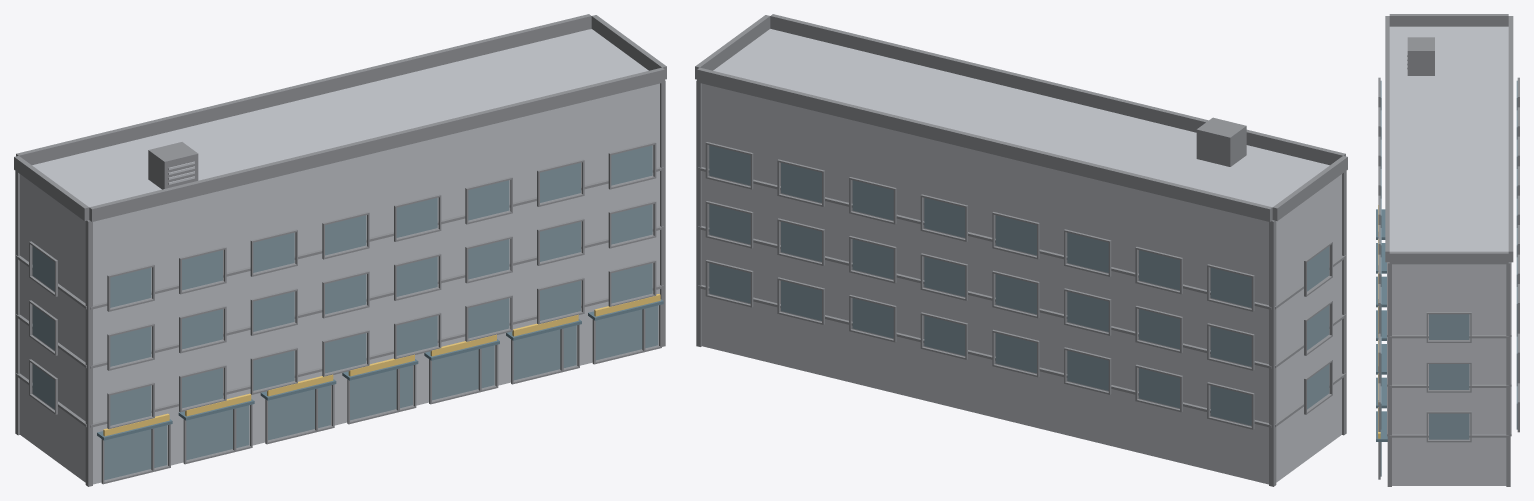
File: lot_4x1.glb
The picture shows the model from 3 angles, left to right: view 1: azimuth 30°, elevation 25°; view 2: azimuth 150°, elevation 25°; view 3: azimuth 270°, elevation 25°; orthographic projection. The views are drawn at different scales.
Parts seen in each view (by area): view 1: lot_4x1; view 2: lot_4x1; view 3: lot_4x1.
Part boxes in pixels (x1,y1,x2,y2): lot_4x1: (14, 14, 666, 486); lot_4x1: (695, 14, 1347, 486); lot_4x1: (1376, 14, 1519, 486).
Bounding box in the file's own units: 31.74 × 15 × 7.87.
